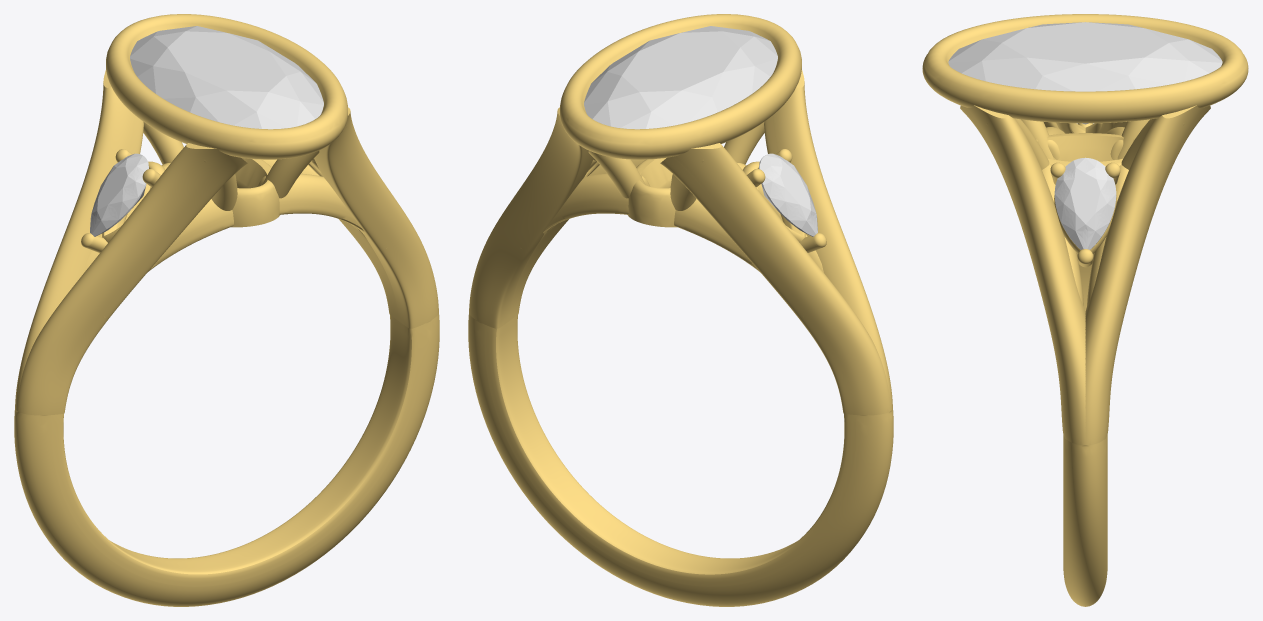
The model's file is MichaelYGengMoval_blender.glb.
The picture shows the model from 3 angles, left to right: view 1: azimuth 30°, elevation 25°; view 2: azimuth 150°, elevation 25°; view 3: azimuth 270°, elevation 25°; orthographic projection.
Visible parts, largest first — view 1: Michael YG for 3d model, Michael center dia for 3d model, Michael pear dia for 3d model.001; view 2: Michael YG for 3d model, Michael center dia for 3d model, Michael pear dia for 3d model.001; view 3: Michael YG for 3d model, Michael center dia for 3d model, Michael pear dia for 3d model.
Boxes of the visible parts, left/top/right/bottom form: Michael YG for 3d model: left=14, top=14, right=439, bottom=606; Michael center dia for 3d model: left=130, top=26, right=323, bottom=129; Michael pear dia for 3d model.001: left=90, top=153, right=148, bottom=236; Michael YG for 3d model: left=468, top=14, right=893, bottom=606; Michael center dia for 3d model: left=584, top=26, right=777, bottom=129; Michael pear dia for 3d model.001: left=759, top=153, right=817, bottom=236; Michael YG for 3d model: left=922, top=14, right=1248, bottom=606; Michael center dia for 3d model: left=948, top=22, right=1222, bottom=124; Michael pear dia for 3d model: left=1054, top=157, right=1116, bottom=249.
Bounding box in the file's own units: 19.9 × 24.27 × 13.25.
